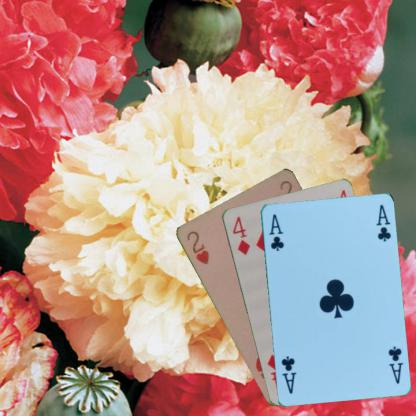2h: (184, 228, 211, 266)
4d: (230, 213, 252, 256)
Ac: (385, 343, 404, 385), (266, 211, 285, 252)
